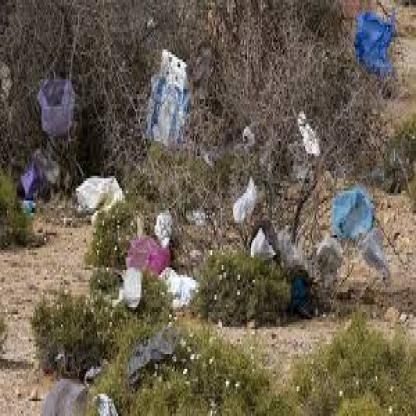trash: (147, 49, 189, 145), (355, 12, 393, 75), (38, 79, 74, 135)
